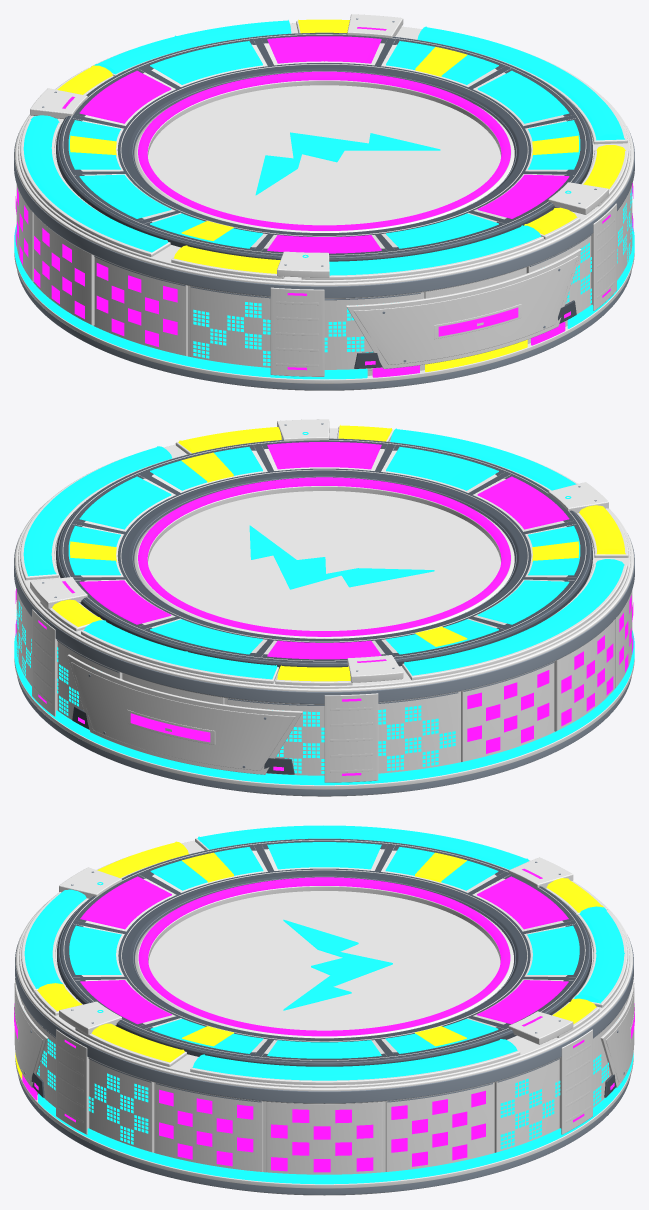
The model's file is Grippy.fbx.
3 renders of one model, top to bottom at view 1: azimuth 30°, elevation 25°; view 2: azimuth 150°, elevation 25°; view 3: azimuth 270°, elevation 25°, orthographic.
Parts seen in each view (by area): view 1: SM_Puck_Grippy_RetroArcade; view 2: SM_Puck_Grippy_RetroArcade; view 3: SM_Puck_Grippy_RetroArcade.
Boxes of the visible parts, box(x1,y1,x2,y2) form: SM_Puck_Grippy_RetroArcade: box(14, 14, 634, 390); SM_Puck_Grippy_RetroArcade: box(14, 419, 634, 796); SM_Puck_Grippy_RetroArcade: box(14, 825, 634, 1195).
Size of the model in its own units: 90 by 90.28 by 20.
